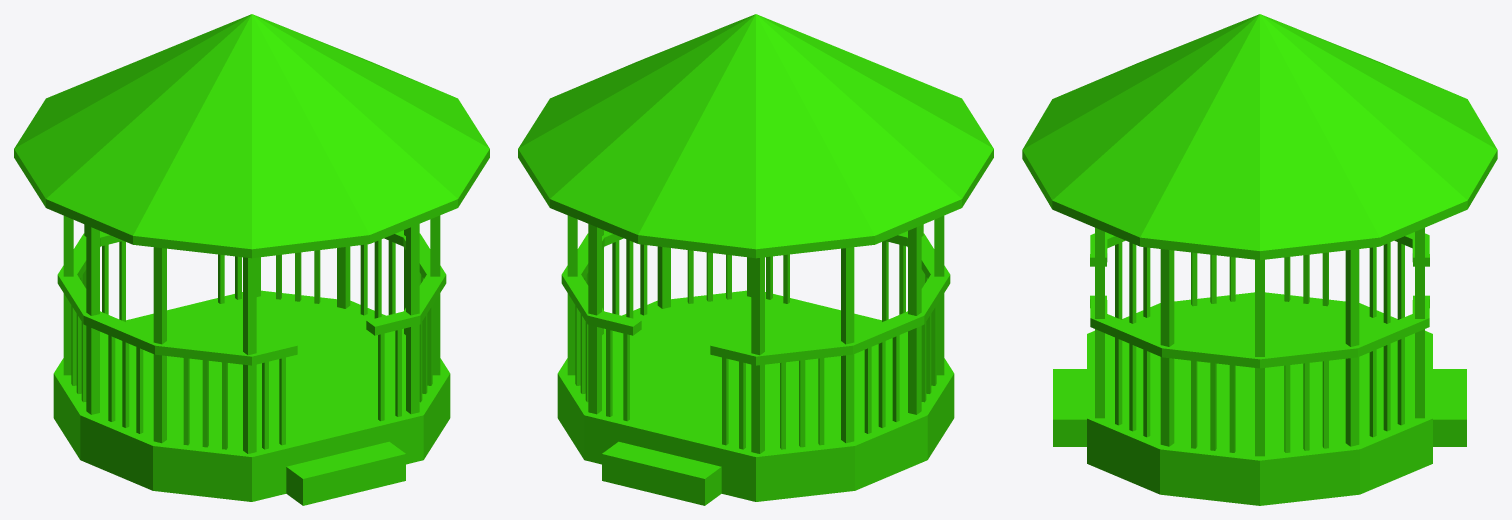
3 renders of one model, left to right at view 1: azimuth 30°, elevation 25°; view 2: azimuth 150°, elevation 25°; view 3: azimuth 270°, elevation 25°, orthographic.
Visible parts, largest first — view 1: gazebo; view 2: gazebo; view 3: gazebo.
Part boxes in pixels (x1,y1,x2,y2): gazebo: [14, 14, 489, 505]; gazebo: [518, 14, 993, 505]; gazebo: [1022, 14, 1497, 505].
Size of the model in its own units: 4.8 by 4.5 by 4.76.
